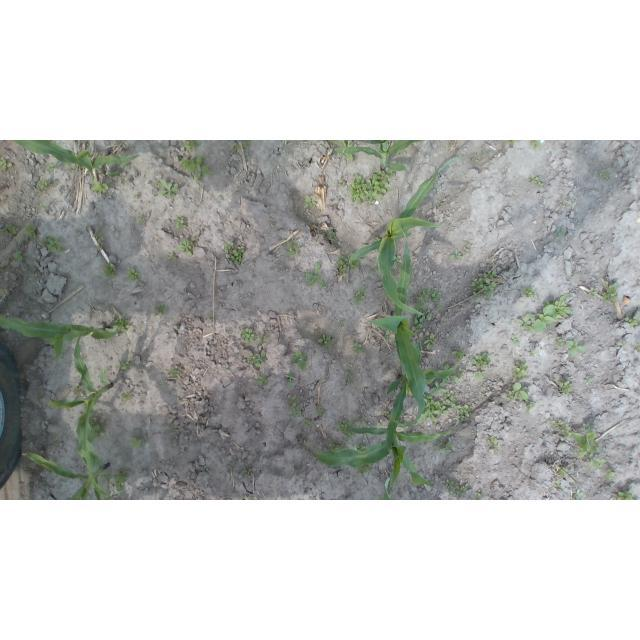Maize: (348, 157, 468, 316), (310, 416, 460, 501), (367, 225, 427, 428), (48, 334, 114, 495), (386, 340, 458, 454), (0, 316, 124, 358), (12, 140, 141, 180), (22, 453, 111, 500), (334, 141, 425, 172)
Weeds: (516, 294, 572, 333), (349, 168, 396, 205), (572, 423, 600, 459), (418, 394, 448, 424), (181, 155, 212, 181), (472, 270, 496, 300), (415, 287, 442, 310), (223, 242, 246, 266), (337, 253, 360, 276), (306, 262, 326, 288), (599, 279, 619, 304), (39, 235, 66, 253), (549, 419, 572, 440), (155, 179, 179, 198), (447, 480, 470, 498), (508, 383, 529, 402), (335, 420, 354, 440), (113, 471, 131, 492), (89, 418, 105, 441), (290, 351, 308, 371), (471, 352, 493, 368), (287, 395, 302, 418), (566, 338, 586, 355), (178, 237, 195, 256), (247, 351, 266, 368), (286, 241, 303, 258), (455, 404, 471, 422), (513, 362, 529, 380), (434, 438, 452, 453), (429, 379, 447, 394), (554, 379, 572, 394), (341, 368, 355, 387), (13, 247, 29, 263), (91, 179, 109, 193), (587, 459, 609, 470), (115, 317, 130, 333), (239, 329, 255, 344), (614, 488, 634, 500), (72, 383, 89, 397), (1, 224, 20, 236), (130, 436, 149, 448), (104, 261, 117, 278), (354, 286, 366, 304), (559, 198, 578, 209), (528, 175, 544, 188), (92, 222, 104, 239), (486, 436, 498, 453), (424, 333, 436, 349), (471, 152, 487, 164), (106, 490, 125, 500), (184, 141, 201, 152), (356, 464, 373, 475), (415, 309, 432, 320), (23, 226, 37, 239), (37, 179, 51, 192), (523, 287, 538, 299), (154, 304, 167, 317), (304, 196, 317, 209), (168, 364, 182, 376), (624, 316, 638, 328), (254, 375, 269, 386), (0, 158, 12, 171), (175, 216, 187, 229), (126, 269, 138, 282), (452, 348, 465, 360), (571, 488, 584, 500), (329, 443, 348, 451), (449, 392, 456, 413), (412, 319, 424, 331), (352, 342, 363, 355), (523, 402, 536, 413), (357, 417, 370, 428), (103, 471, 112, 486), (120, 360, 133, 370), (120, 392, 133, 402), (318, 334, 331, 344), (44, 163, 56, 173), (450, 249, 462, 259), (287, 372, 294, 389), (446, 376, 459, 385), (341, 154, 354, 163), (510, 335, 520, 346), (600, 172, 611, 182), (258, 336, 270, 345), (588, 288, 596, 301), (555, 227, 565, 237), (605, 469, 615, 479), (531, 141, 542, 150), (474, 371, 485, 380), (339, 141, 353, 148), (355, 444, 367, 452), (66, 165, 76, 174), (558, 467, 567, 477), (34, 394, 45, 402), (393, 255, 401, 266), (96, 242, 105, 251), (242, 140, 251, 149), (118, 176, 128, 184), (167, 252, 177, 260), (304, 419, 314, 427), (475, 489, 482, 500), (584, 376, 595, 383), (458, 369, 466, 378), (326, 231, 335, 239), (554, 480, 563, 488), (19, 239, 29, 246), (385, 329, 390, 343), (272, 263, 282, 270), (242, 467, 248, 478), (136, 214, 144, 222), (317, 408, 324, 417), (41, 201, 48, 209), (122, 164, 130, 171), (53, 438, 60, 446), (443, 362, 450, 370), (338, 181, 346, 188), (556, 337, 563, 345), (121, 146, 132, 151), (208, 314, 214, 323), (34, 268, 40, 277), (133, 193, 142, 199), (635, 342, 640, 352), (163, 380, 170, 387), (530, 351, 537, 358), (621, 341, 628, 348), (233, 142, 239, 150), (23, 364, 32, 369), (270, 219, 275, 228), (245, 496, 256, 500), (237, 280, 243, 287), (171, 423, 178, 429), (223, 365, 230, 371), (338, 321, 344, 328), (290, 461, 296, 468), (571, 271, 579, 276), (219, 195, 225, 201), (383, 410, 389, 416), (378, 422, 384, 428), (374, 236, 380, 242), (437, 202, 445, 206), (508, 140, 515, 144), (464, 247, 469, 252), (340, 498, 344, 500)
